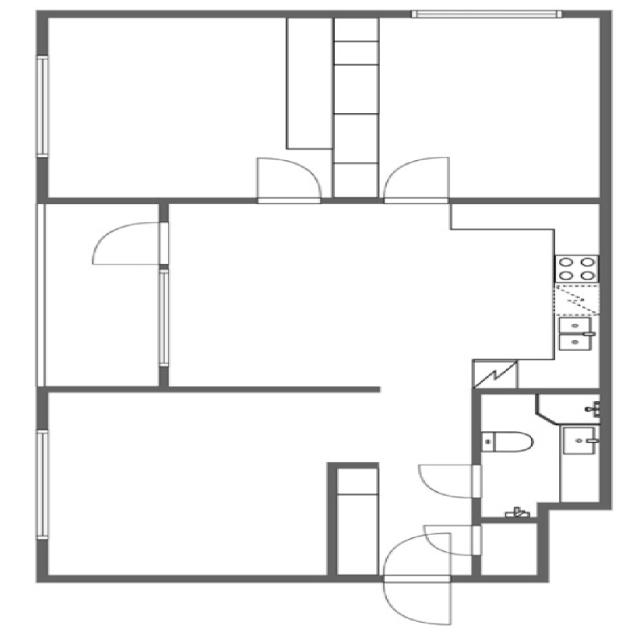door: (368, 530, 462, 630), (239, 152, 331, 209), (371, 150, 459, 208), (83, 214, 168, 269), (404, 455, 495, 505), (417, 521, 488, 561)
window: (136, 217, 193, 382), (21, 422, 60, 546), (20, 51, 59, 160), (402, 3, 570, 26), (146, 262, 182, 369)
zone: (152, 201, 593, 390), (35, 388, 345, 579), (27, 11, 338, 201), (340, 12, 610, 203), (473, 387, 605, 514), (474, 520, 543, 579)
